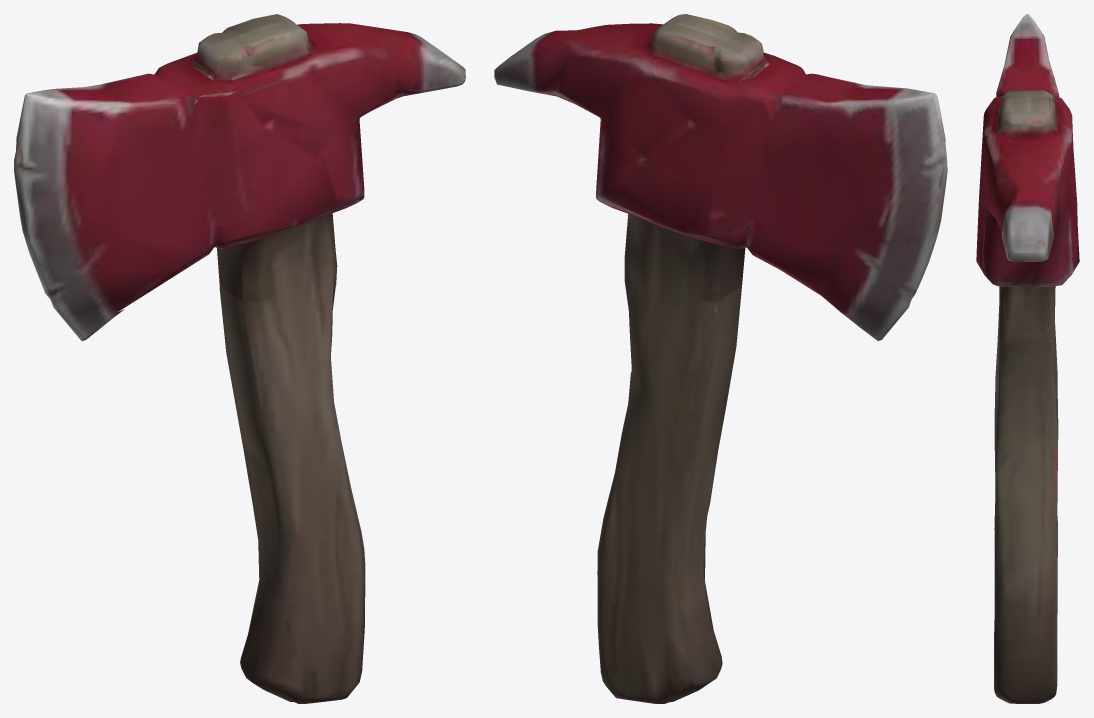
File: axe.glb
3 renders of one model, left to right at view 1: azimuth 30°, elevation 25°; view 2: azimuth 150°, elevation 25°; view 3: azimuth 270°, elevation 25°, orthographic. The views are drawn at different scales.
Parts seen in each view (by area): view 1: Mesh1.0; view 2: Mesh1.0; view 3: Mesh1.0.
Boxes of the visible parts, x1,y1,x2,y2 form: Mesh1.0: (14, 14, 465, 703); Mesh1.0: (494, 14, 947, 703); Mesh1.0: (976, 14, 1079, 703).
Bounding box in the file's own units: 1.31 × 1.91 × 0.3147.
Materials: 1 (1 with a texture image).
